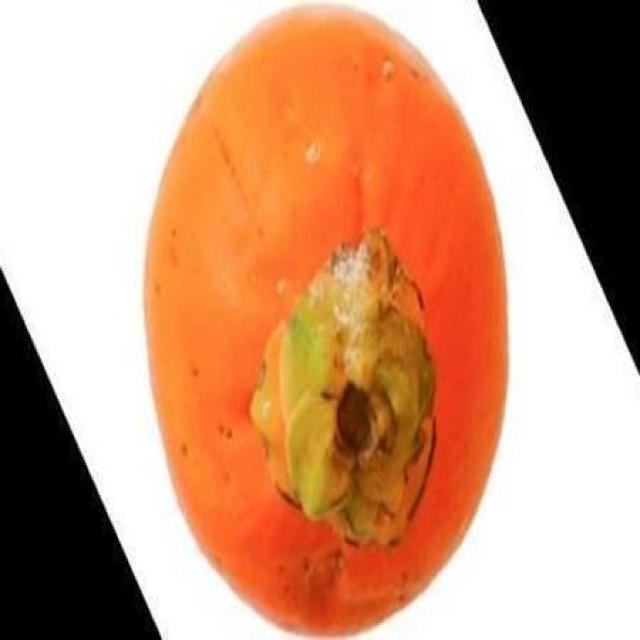good: (142, 4, 511, 638)
